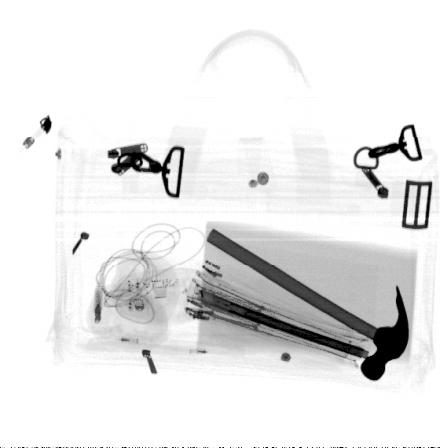Hammer: (207, 229, 410, 382)
